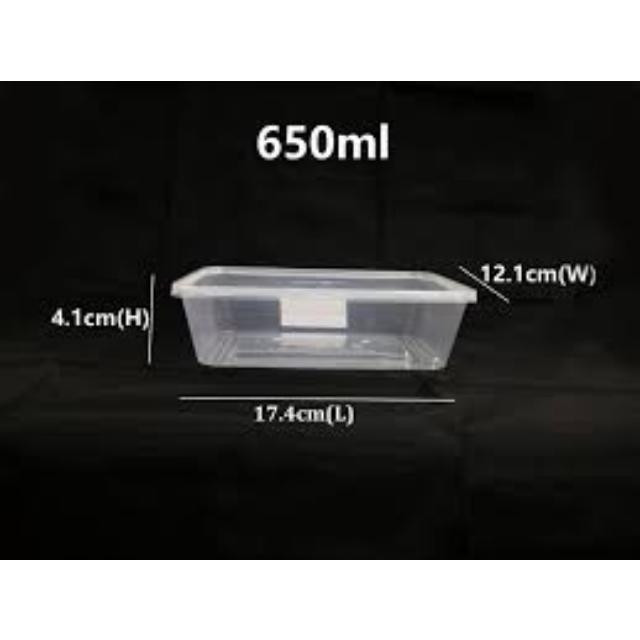Recipiente plastico: (171, 266, 476, 370)
